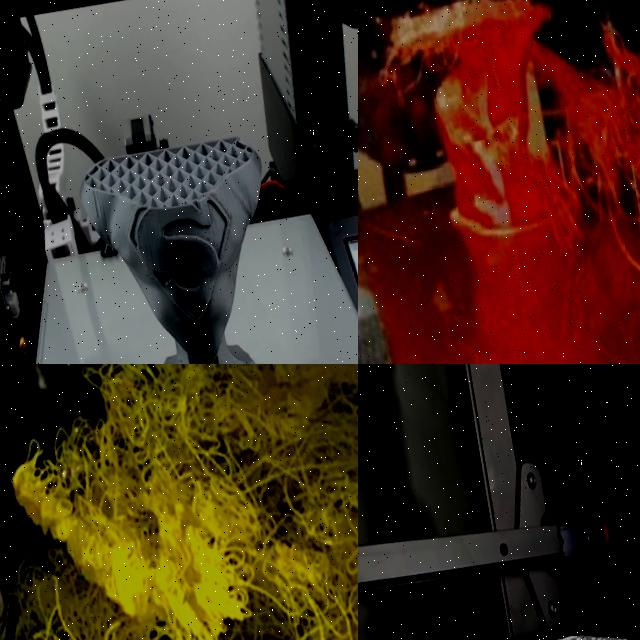spaghetti: (0, 364, 358, 640), (537, 2, 640, 322)
